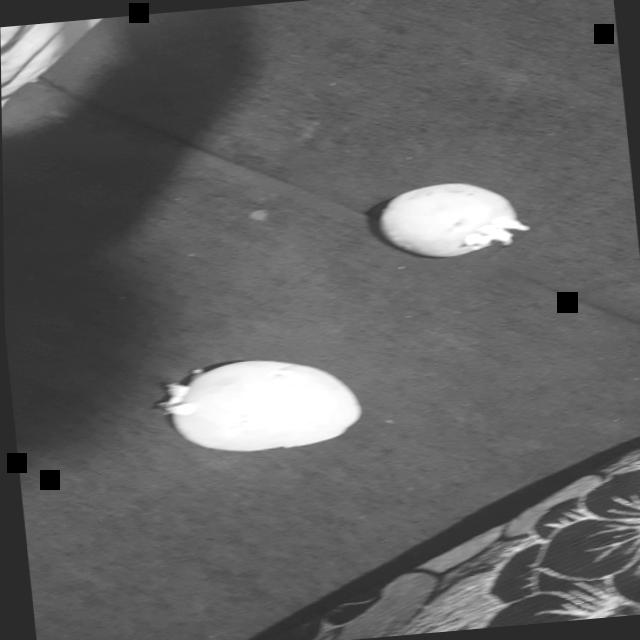potato: (137, 342, 374, 481), (363, 166, 537, 274)
